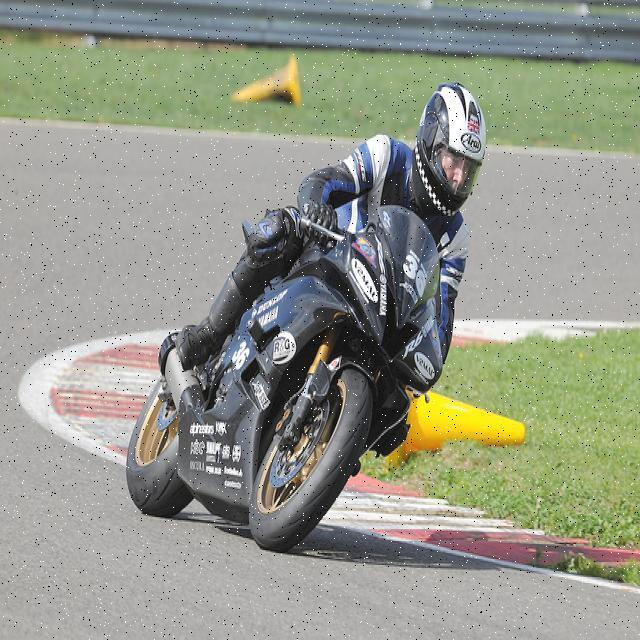motorcycle: (110, 147, 487, 558)
